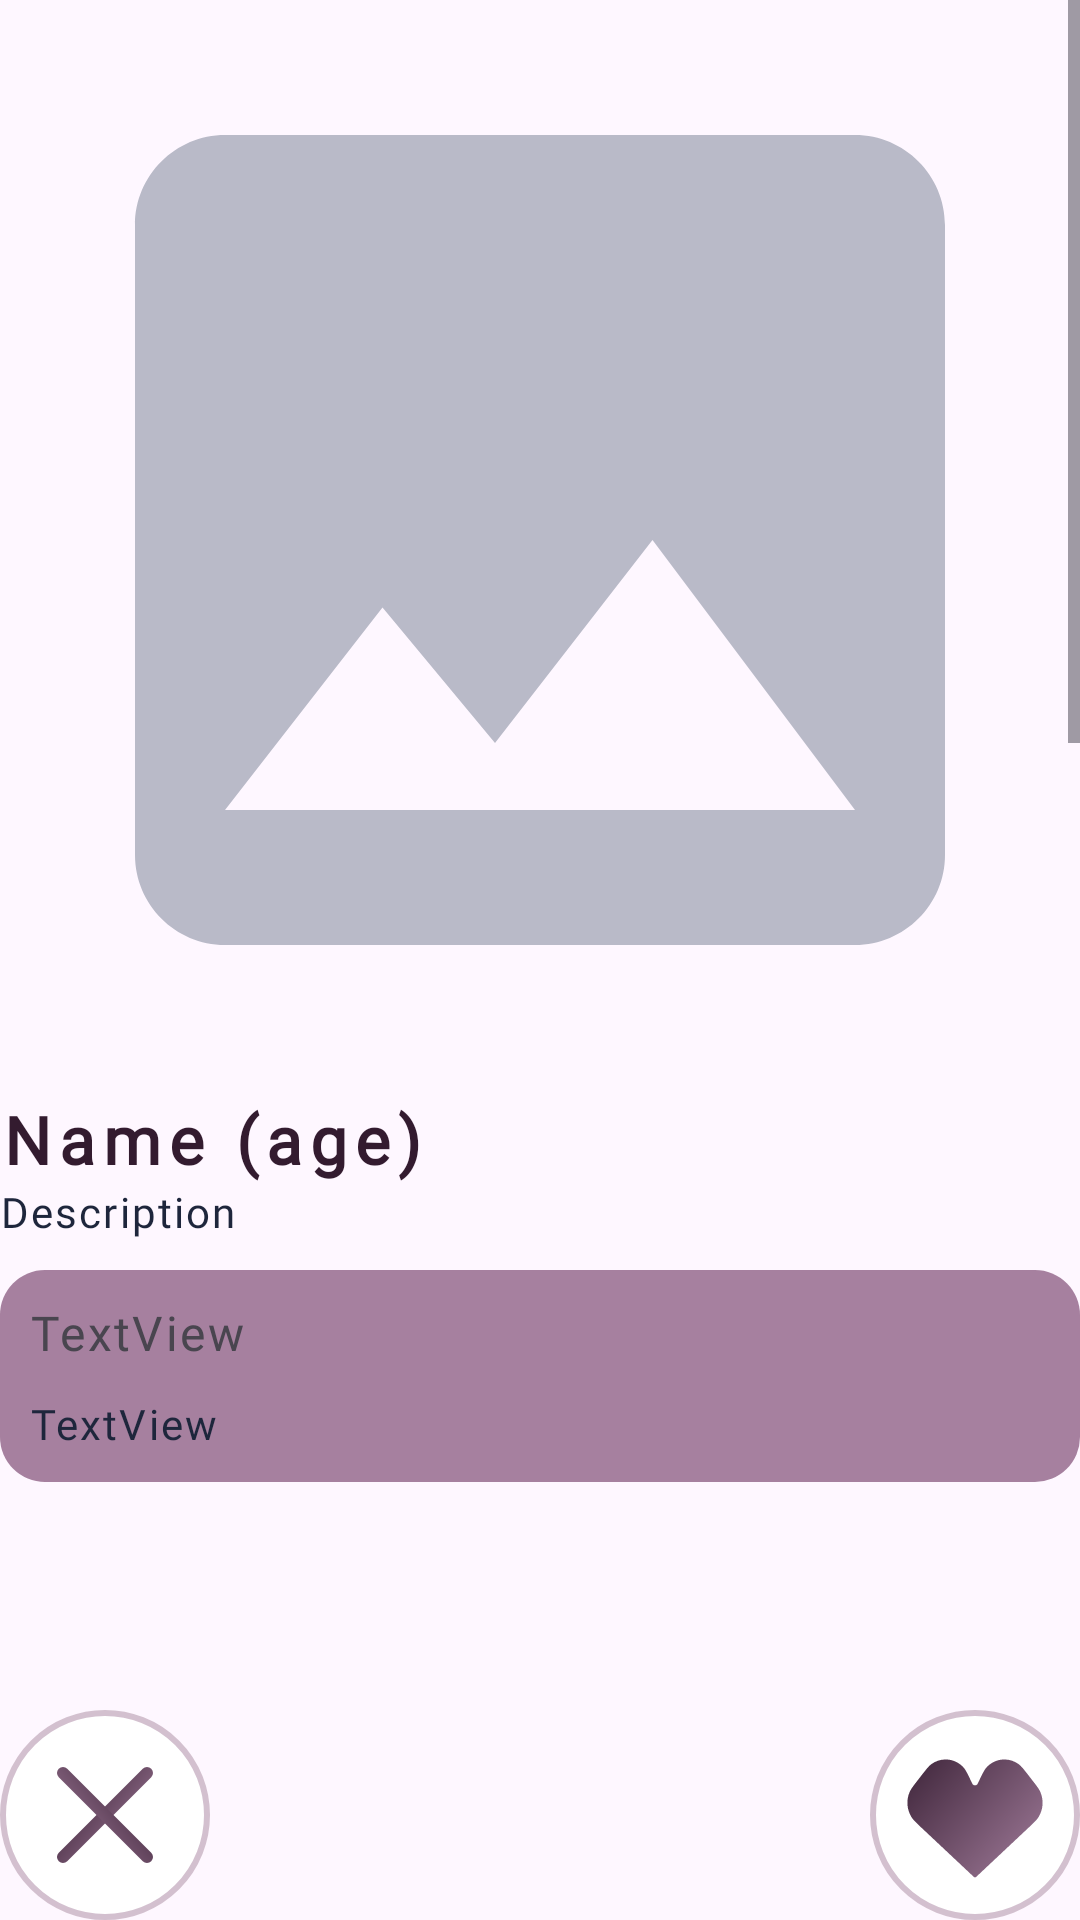

Icon bounding boxes for this 1080*1920 phone screenshot, format [x1=x1, y1=y1, x2=x2, y2=y2]:
dislike: [x1=0, y1=1710, x2=210, y2=1920]
like: [x1=870, y1=1710, x2=1080, y2=1920]
